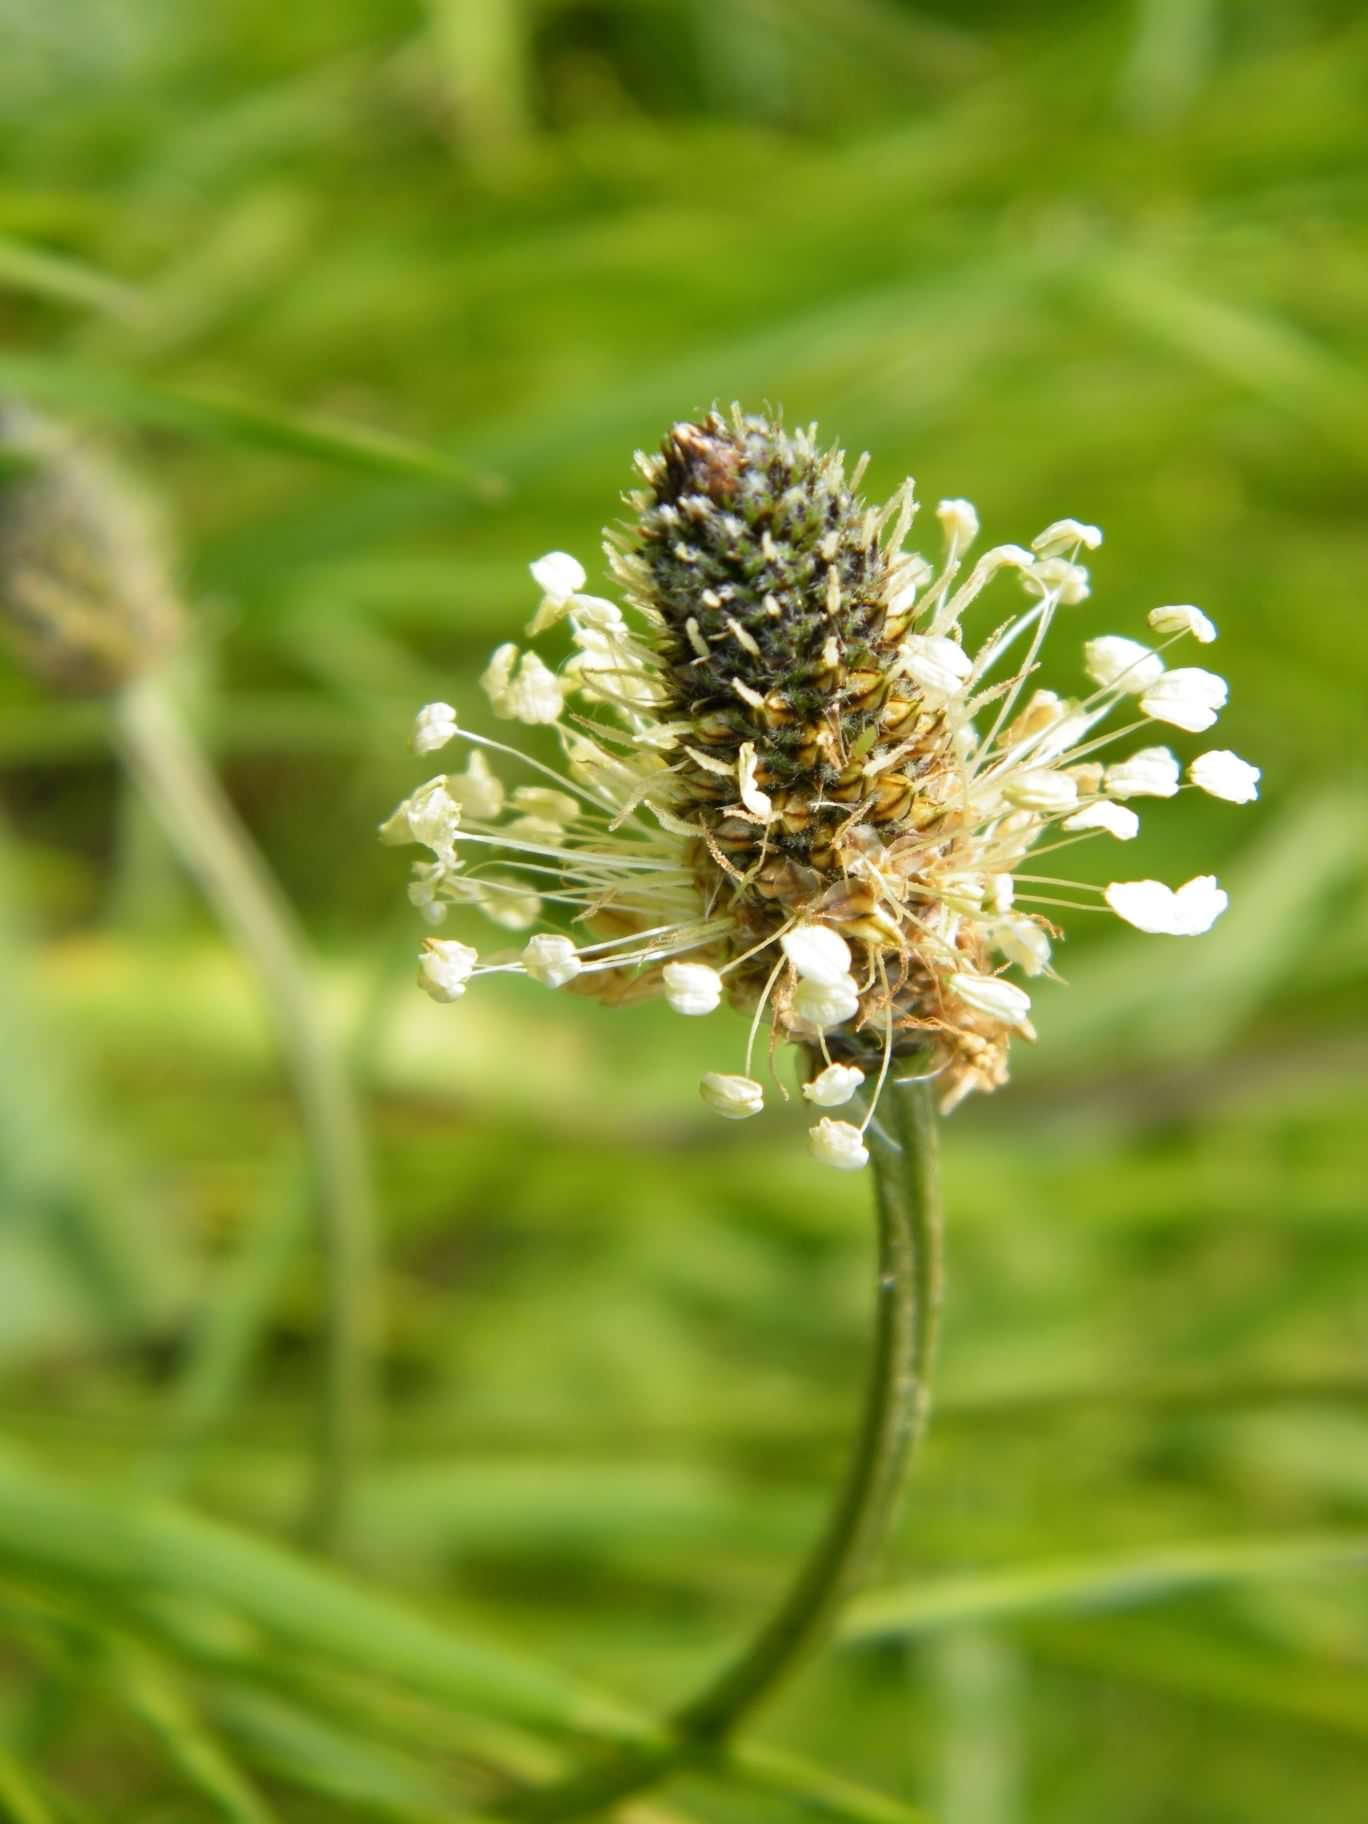buckhorn plantain: (399, 386, 1246, 1767)
